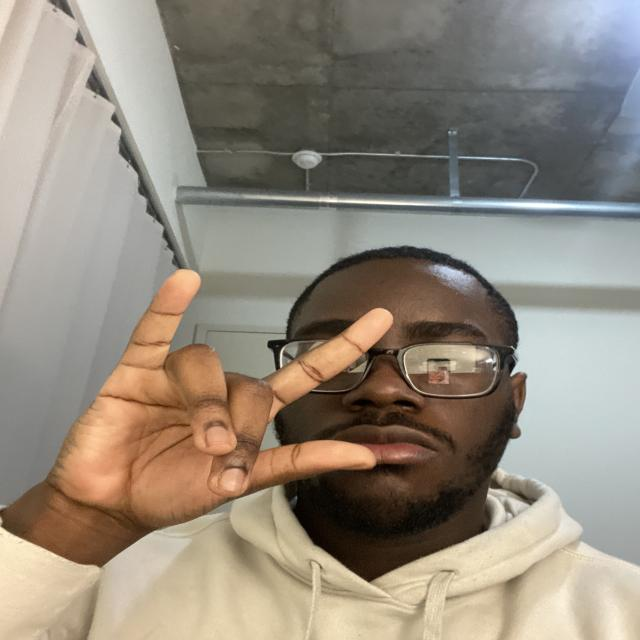I love you: (109, 246, 395, 542)
